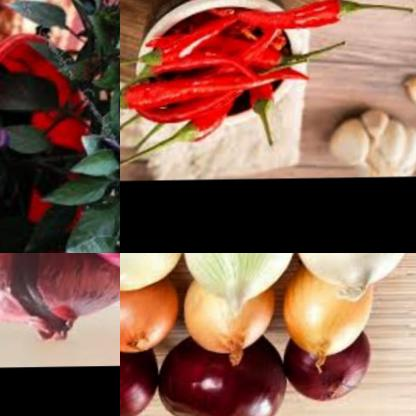garlic: (328, 108, 398, 178), (366, 118, 416, 179), (402, 72, 416, 123)
hot pepper: (120, 0, 404, 175)
onion: (0, 253, 120, 352), (156, 331, 292, 416), (284, 267, 397, 369), (179, 280, 288, 367), (283, 330, 382, 412), (185, 253, 302, 313), (289, 253, 416, 301), (120, 276, 184, 357), (120, 336, 168, 416), (120, 253, 189, 292)
